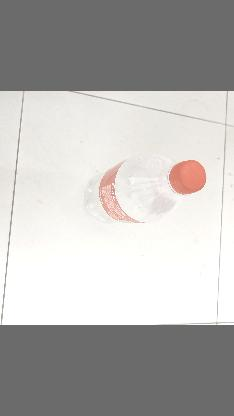Plastic Bottle: (78, 148, 216, 230)
